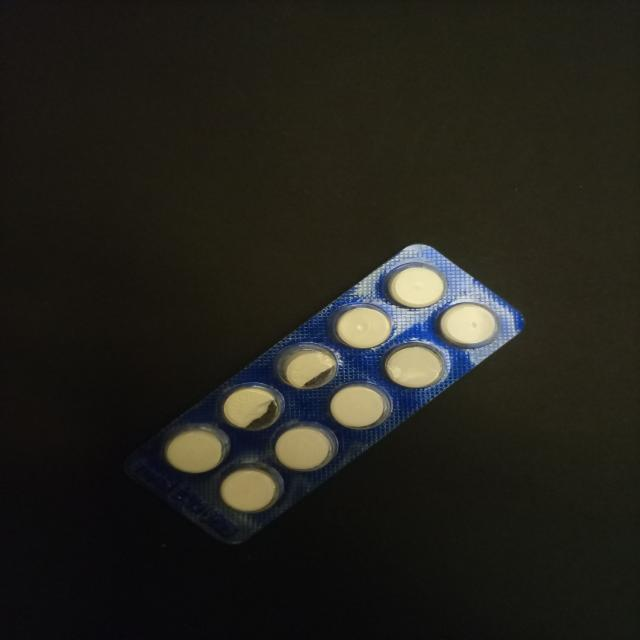defect: (274, 342, 339, 391), (218, 386, 283, 434)
